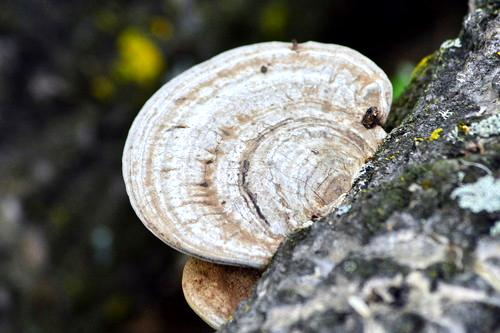Ganoderma - Fruit Body: (118, 35, 400, 271), (179, 270, 268, 333)
